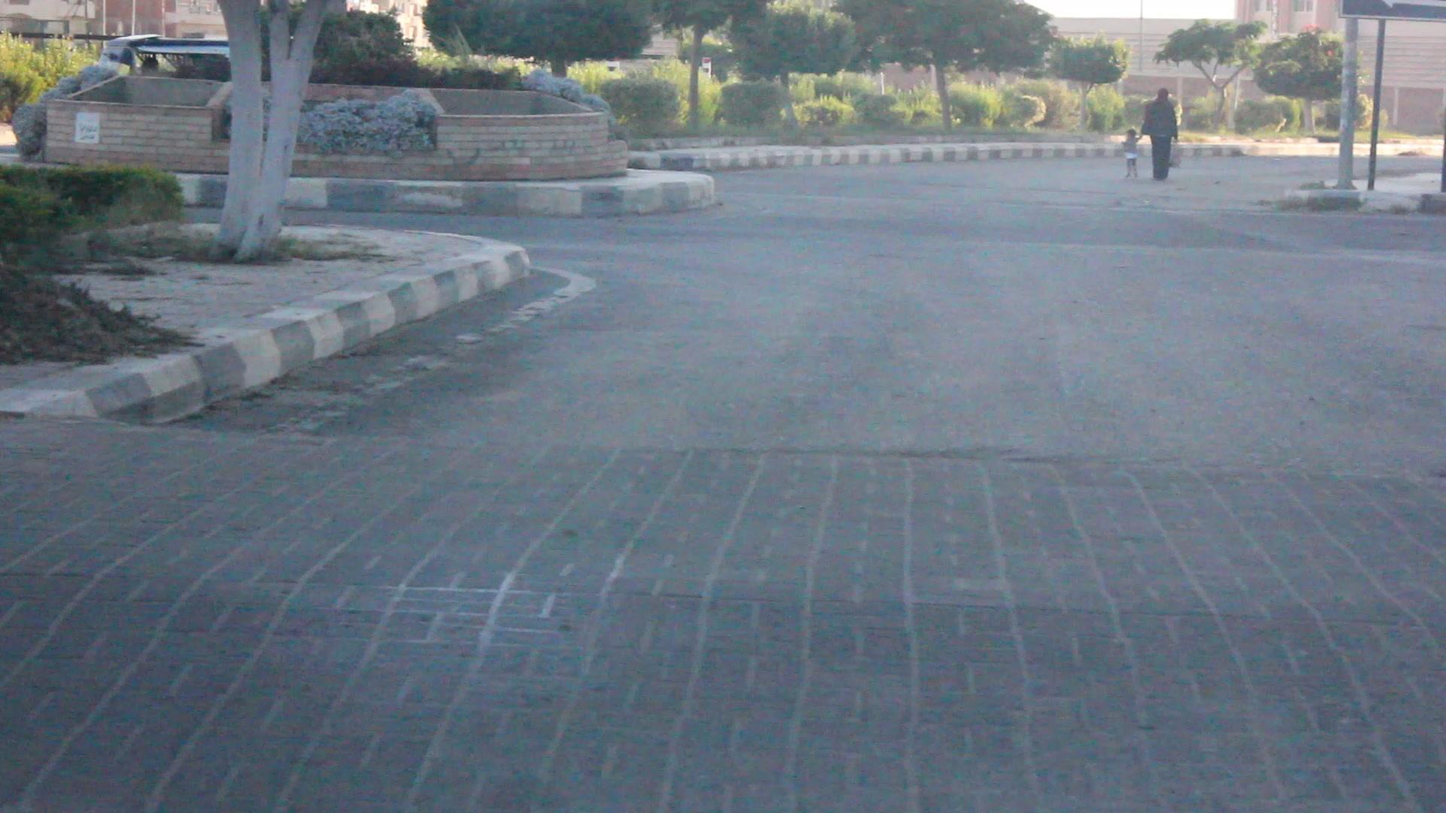Bump: (1, 419, 1445, 812)
